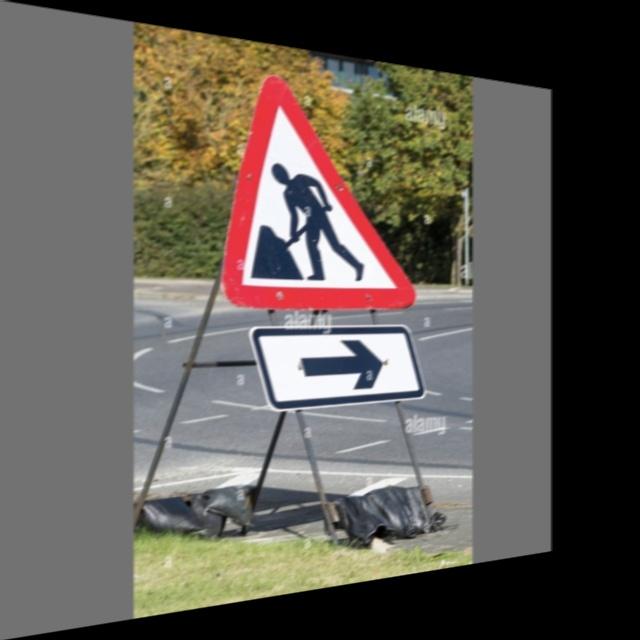Men_at_Work: (198, 66, 422, 310)
